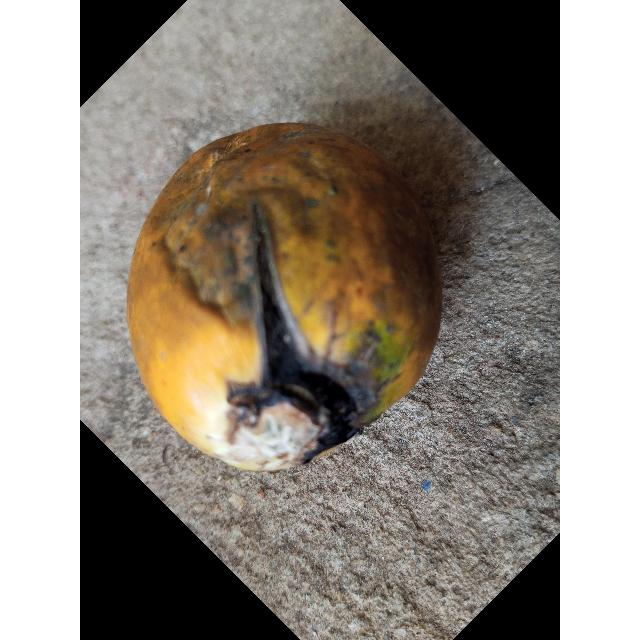damaged: (125, 123, 443, 475)
